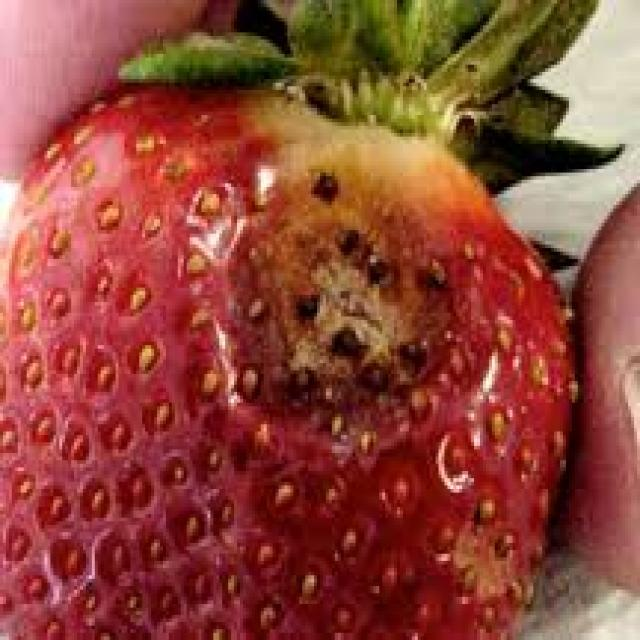Mancha negra Antracnosis: (3, 80, 556, 640)
